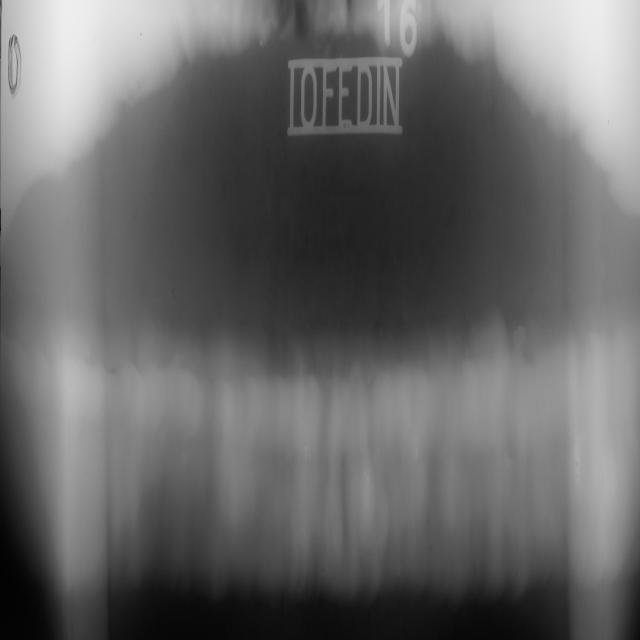FF: (13, 315, 634, 482)
